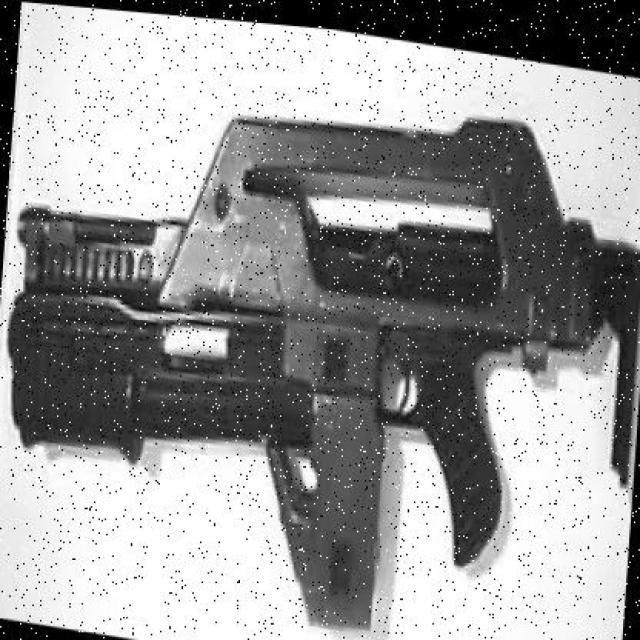weapon: (9, 114, 640, 630)
